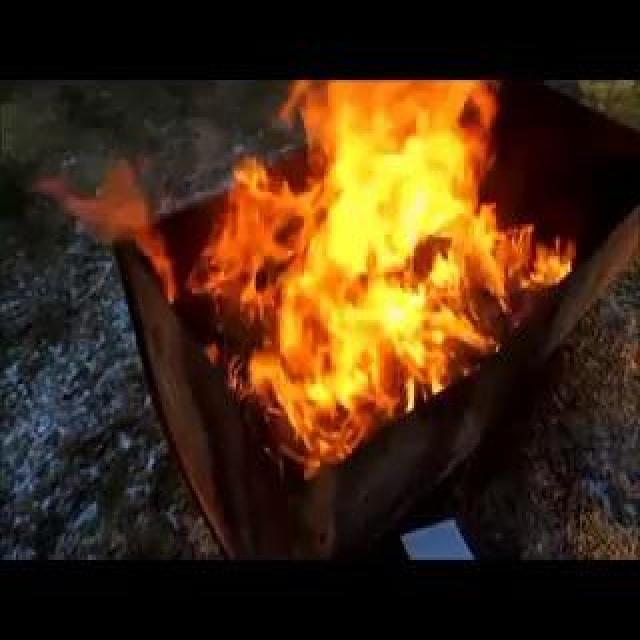Fire: (272, 79, 516, 456)
